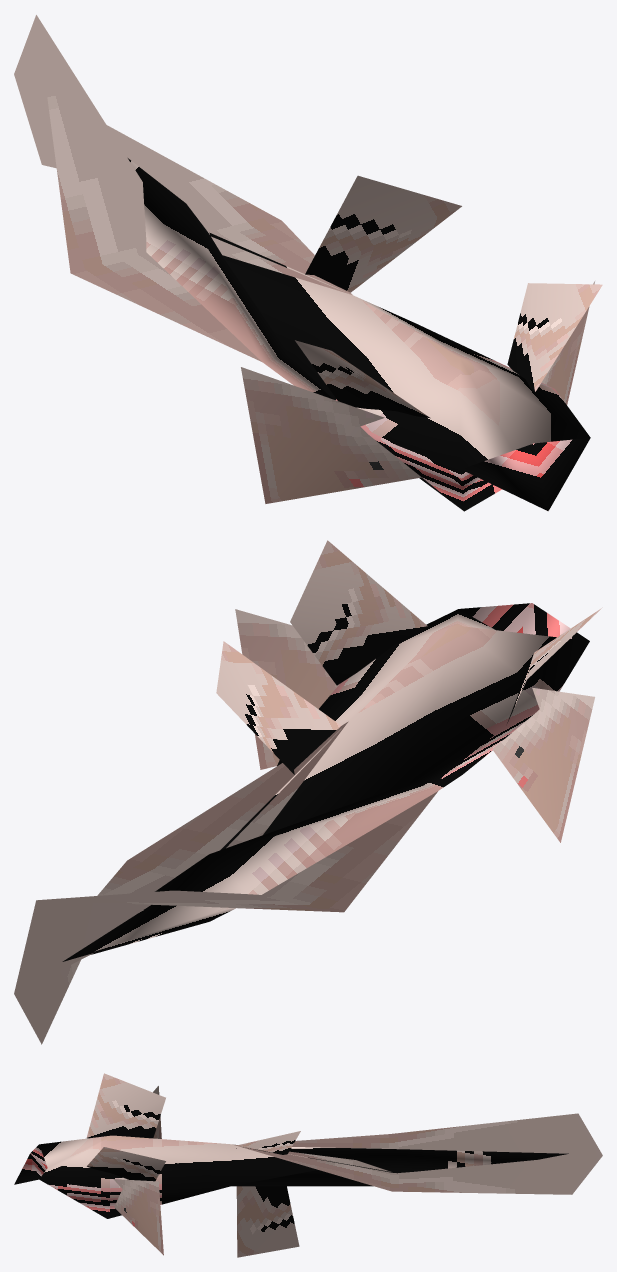
3 renders of one model, top to bottom at view 1: azimuth 30°, elevation 25°; view 2: azimuth 150°, elevation 25°; view 3: azimuth 270°, elevation 25°, orthographic. The views are drawn at different scales.
Visible parts, largest first — view 1: 4807fish17; view 2: 4807fish17; view 3: 4807fish17.
Boxes of the visible parts, x1,y1,x2,y2 form: 4807fish17: (14, 15, 602, 511); 4807fish17: (14, 540, 602, 1044); 4807fish17: (14, 1073, 602, 1257).
Size of the model in its own units: 0.3865 by 0.2215 by 1.
1 material, 1 textured.
